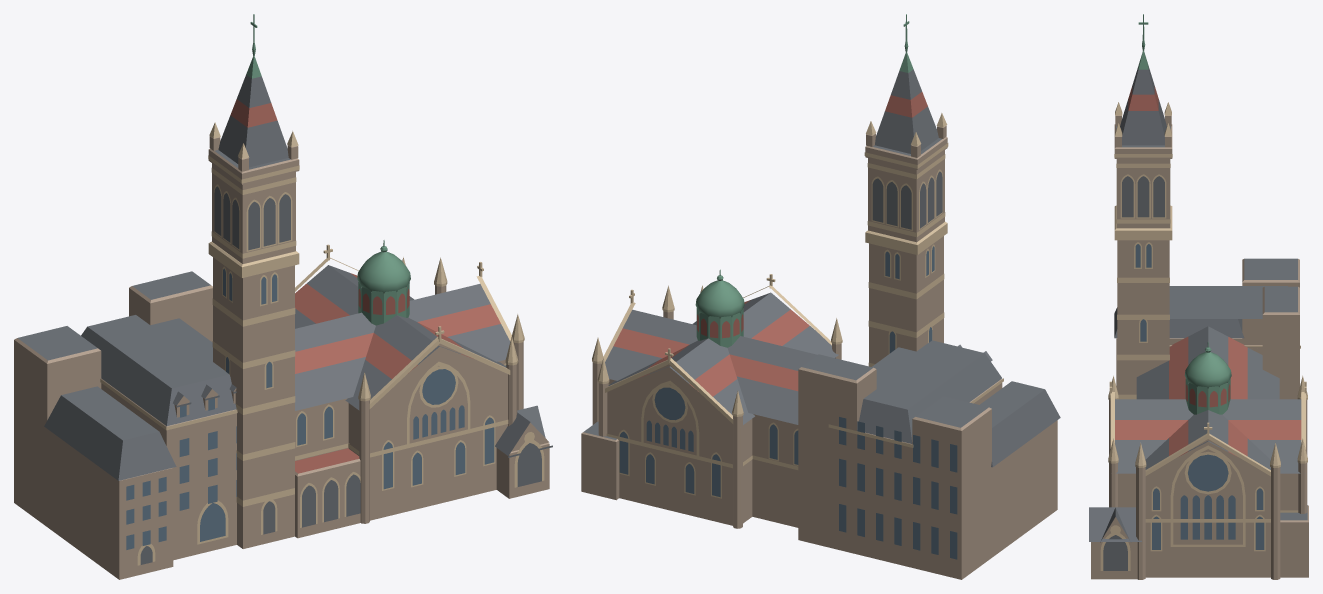
The model's file is bos-old-south-church.glb.
3 views of the same model, side by side, from view 1: azimuth 30°, elevation 25°; view 2: azimuth 150°, elevation 25°; view 3: azimuth 270°, elevation 25° (orthographic). The views are drawn at different scales.
Parts seen in each view (by area): view 1: Old South Church; view 2: Old South Church; view 3: Old South Church.
Boxes of the visible parts, x1,y1,x2,y2 form: Old South Church: (14,14,552,579); Old South Church: (581,14,1060,579); Old South Church: (1089,14,1308,579).
Size of the model in its own units: 62.2 by 73.3 by 32.3.
